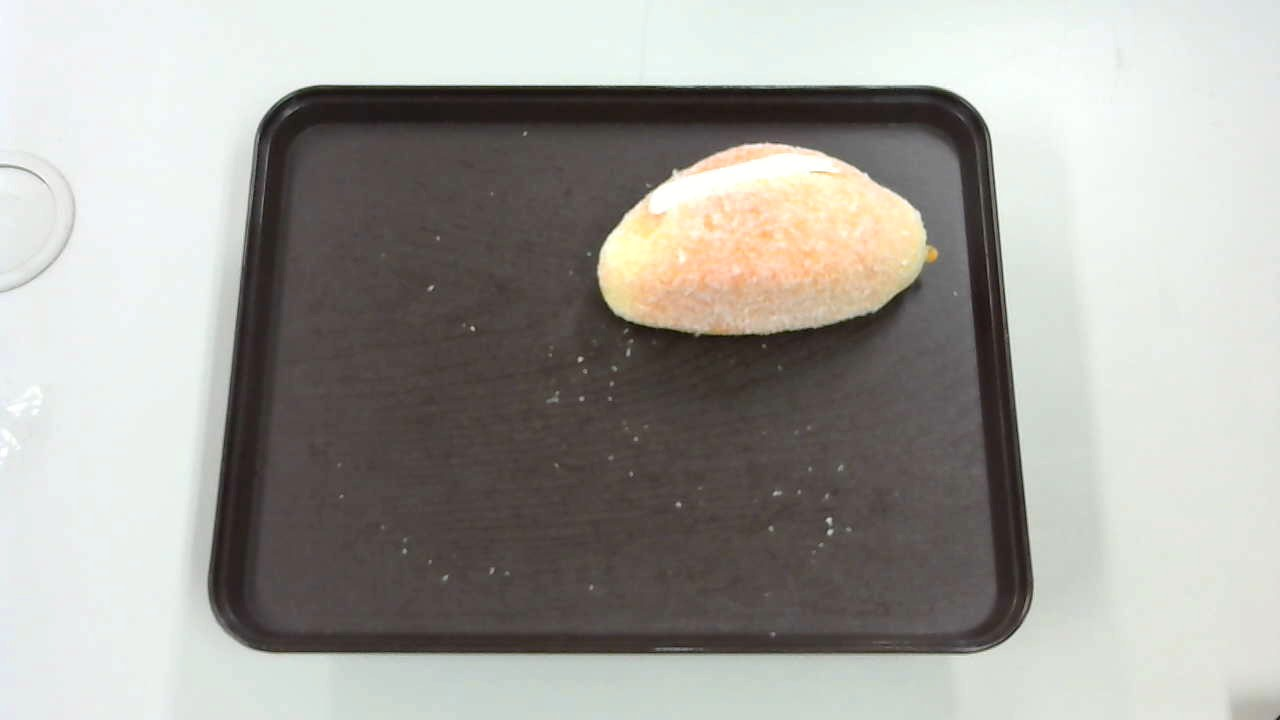coconut: (596, 142, 938, 337)
